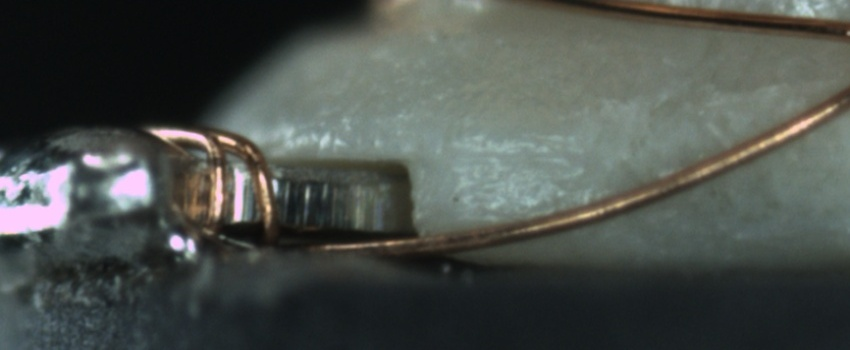DL: (448, 122, 579, 184)
TE: (136, 109, 291, 255)
